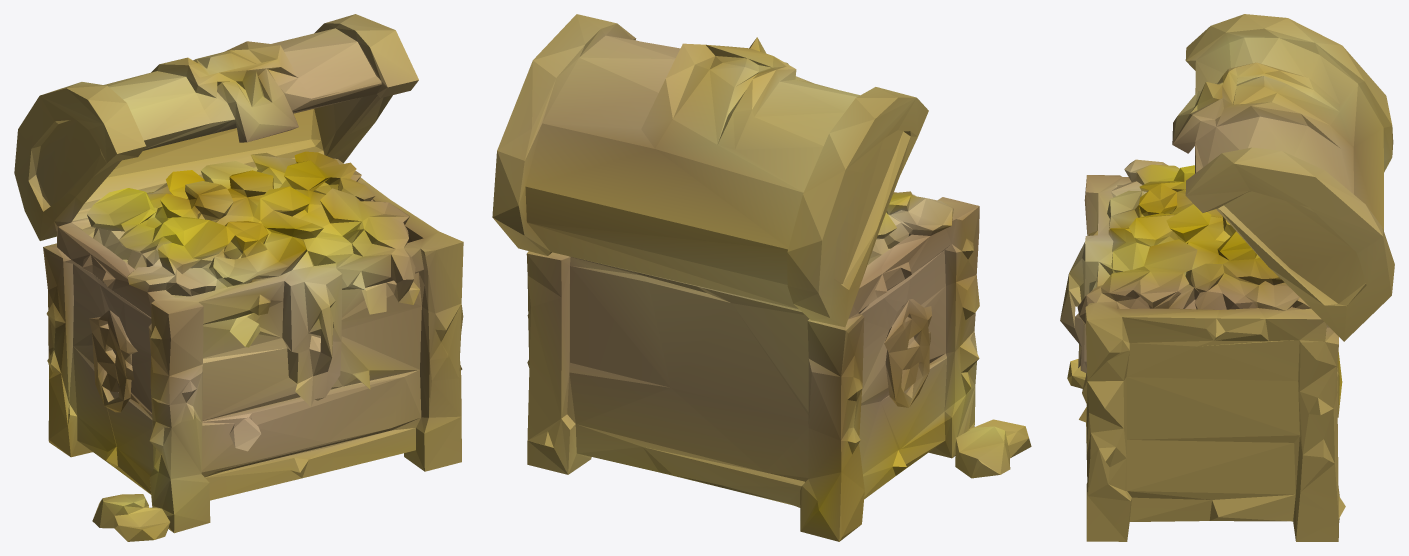
Rendered from sandik_lo.glb.
The picture shows the model from 3 angles, left to right: view 1: azimuth 30°, elevation 25°; view 2: azimuth 150°, elevation 25°; view 3: azimuth 270°, elevation 25°; orthographic projection. The views are drawn at different scales.
Visible parts, largest first — view 1: geometry_0; view 2: geometry_0; view 3: geometry_0.
Part boxes in pixels (x1,y1,x2,y2): geometry_0: (14,14,463,541); geometry_0: (492,14,1031,541); geometry_0: (1060,14,1394,541).
Size of the model in its own units: 0.9555 by 0.9967 by 0.7781.
